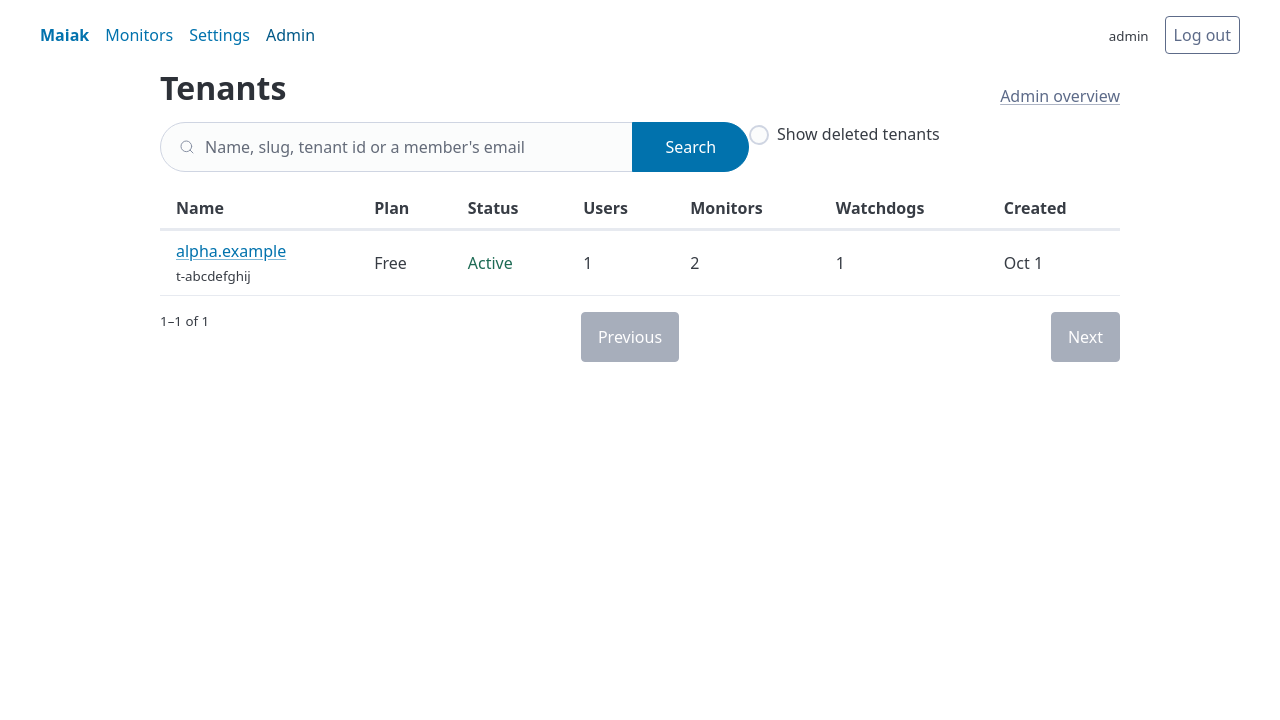
Test: admin tenants list › opens the details when a row is clicked
Click the text "Free".
click(405, 262)  # box [358,230,452,296]
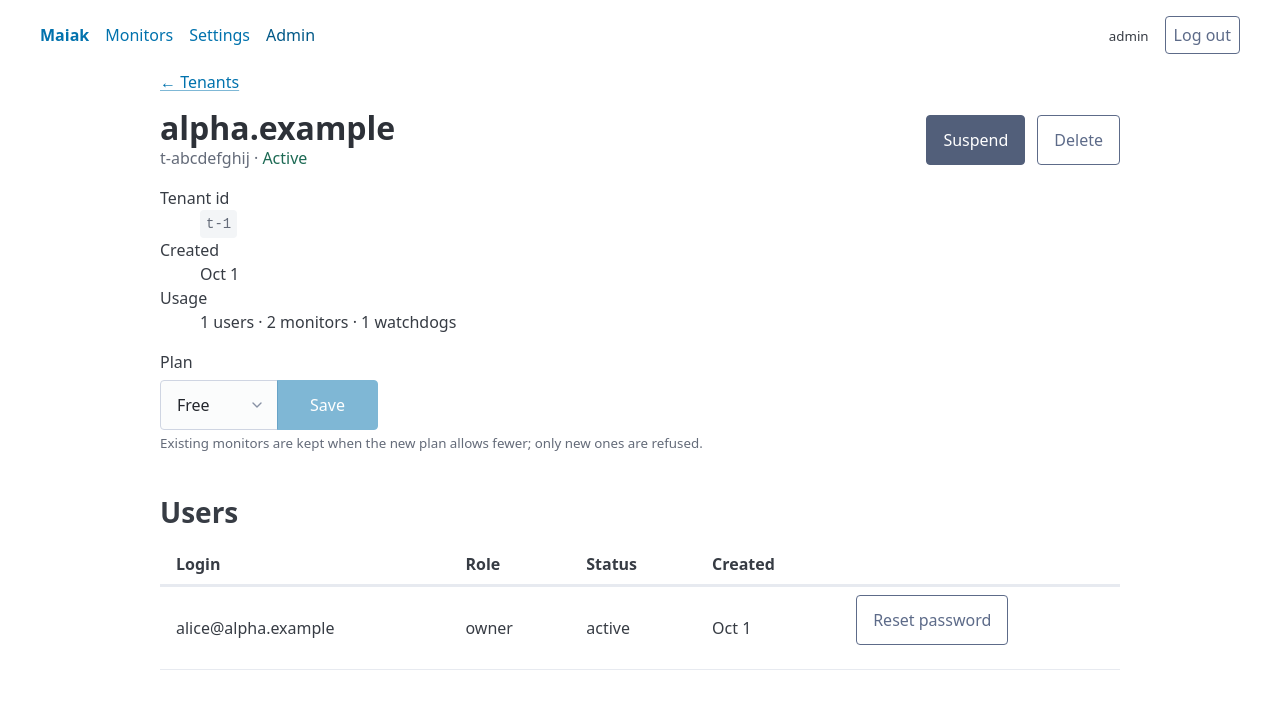
Expected: the heading "alpha.example" is shown, [160,110,395,146]
